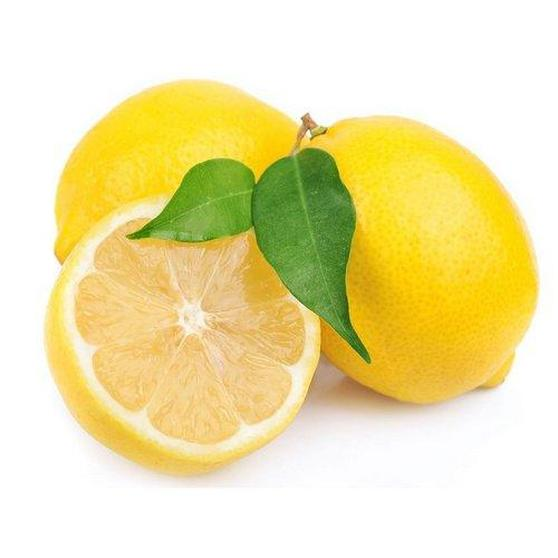lemon: (295, 112, 541, 400)
